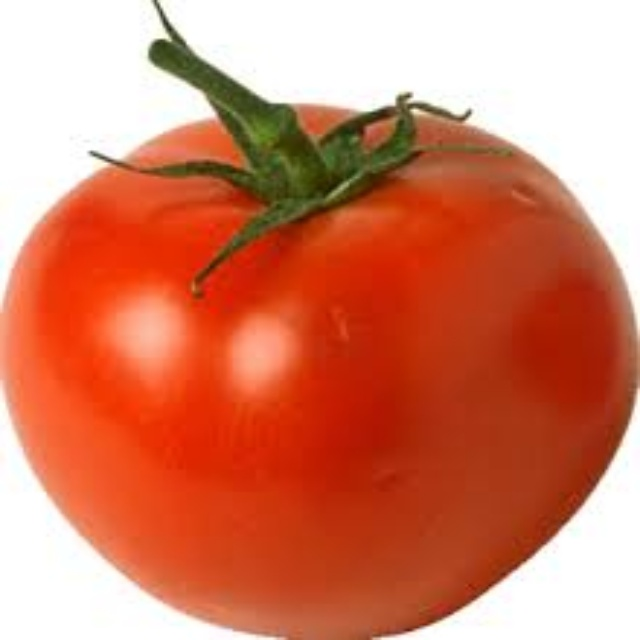tomato: (1, 41, 638, 637)
